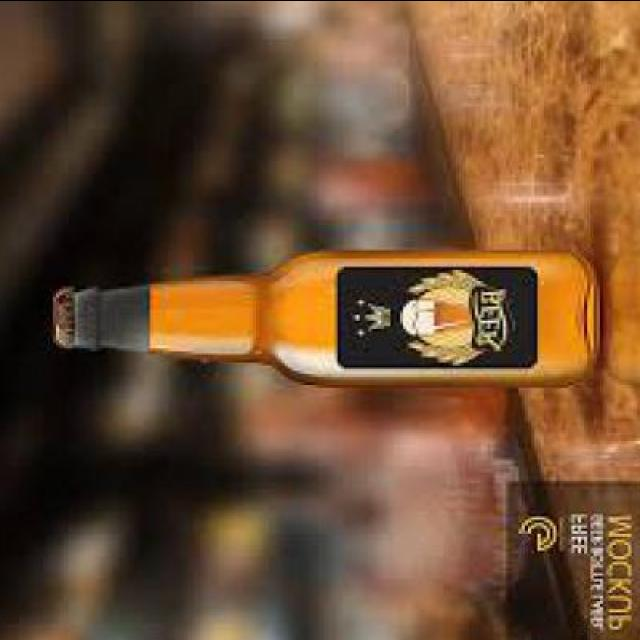kaca: (72, 246, 597, 384)
